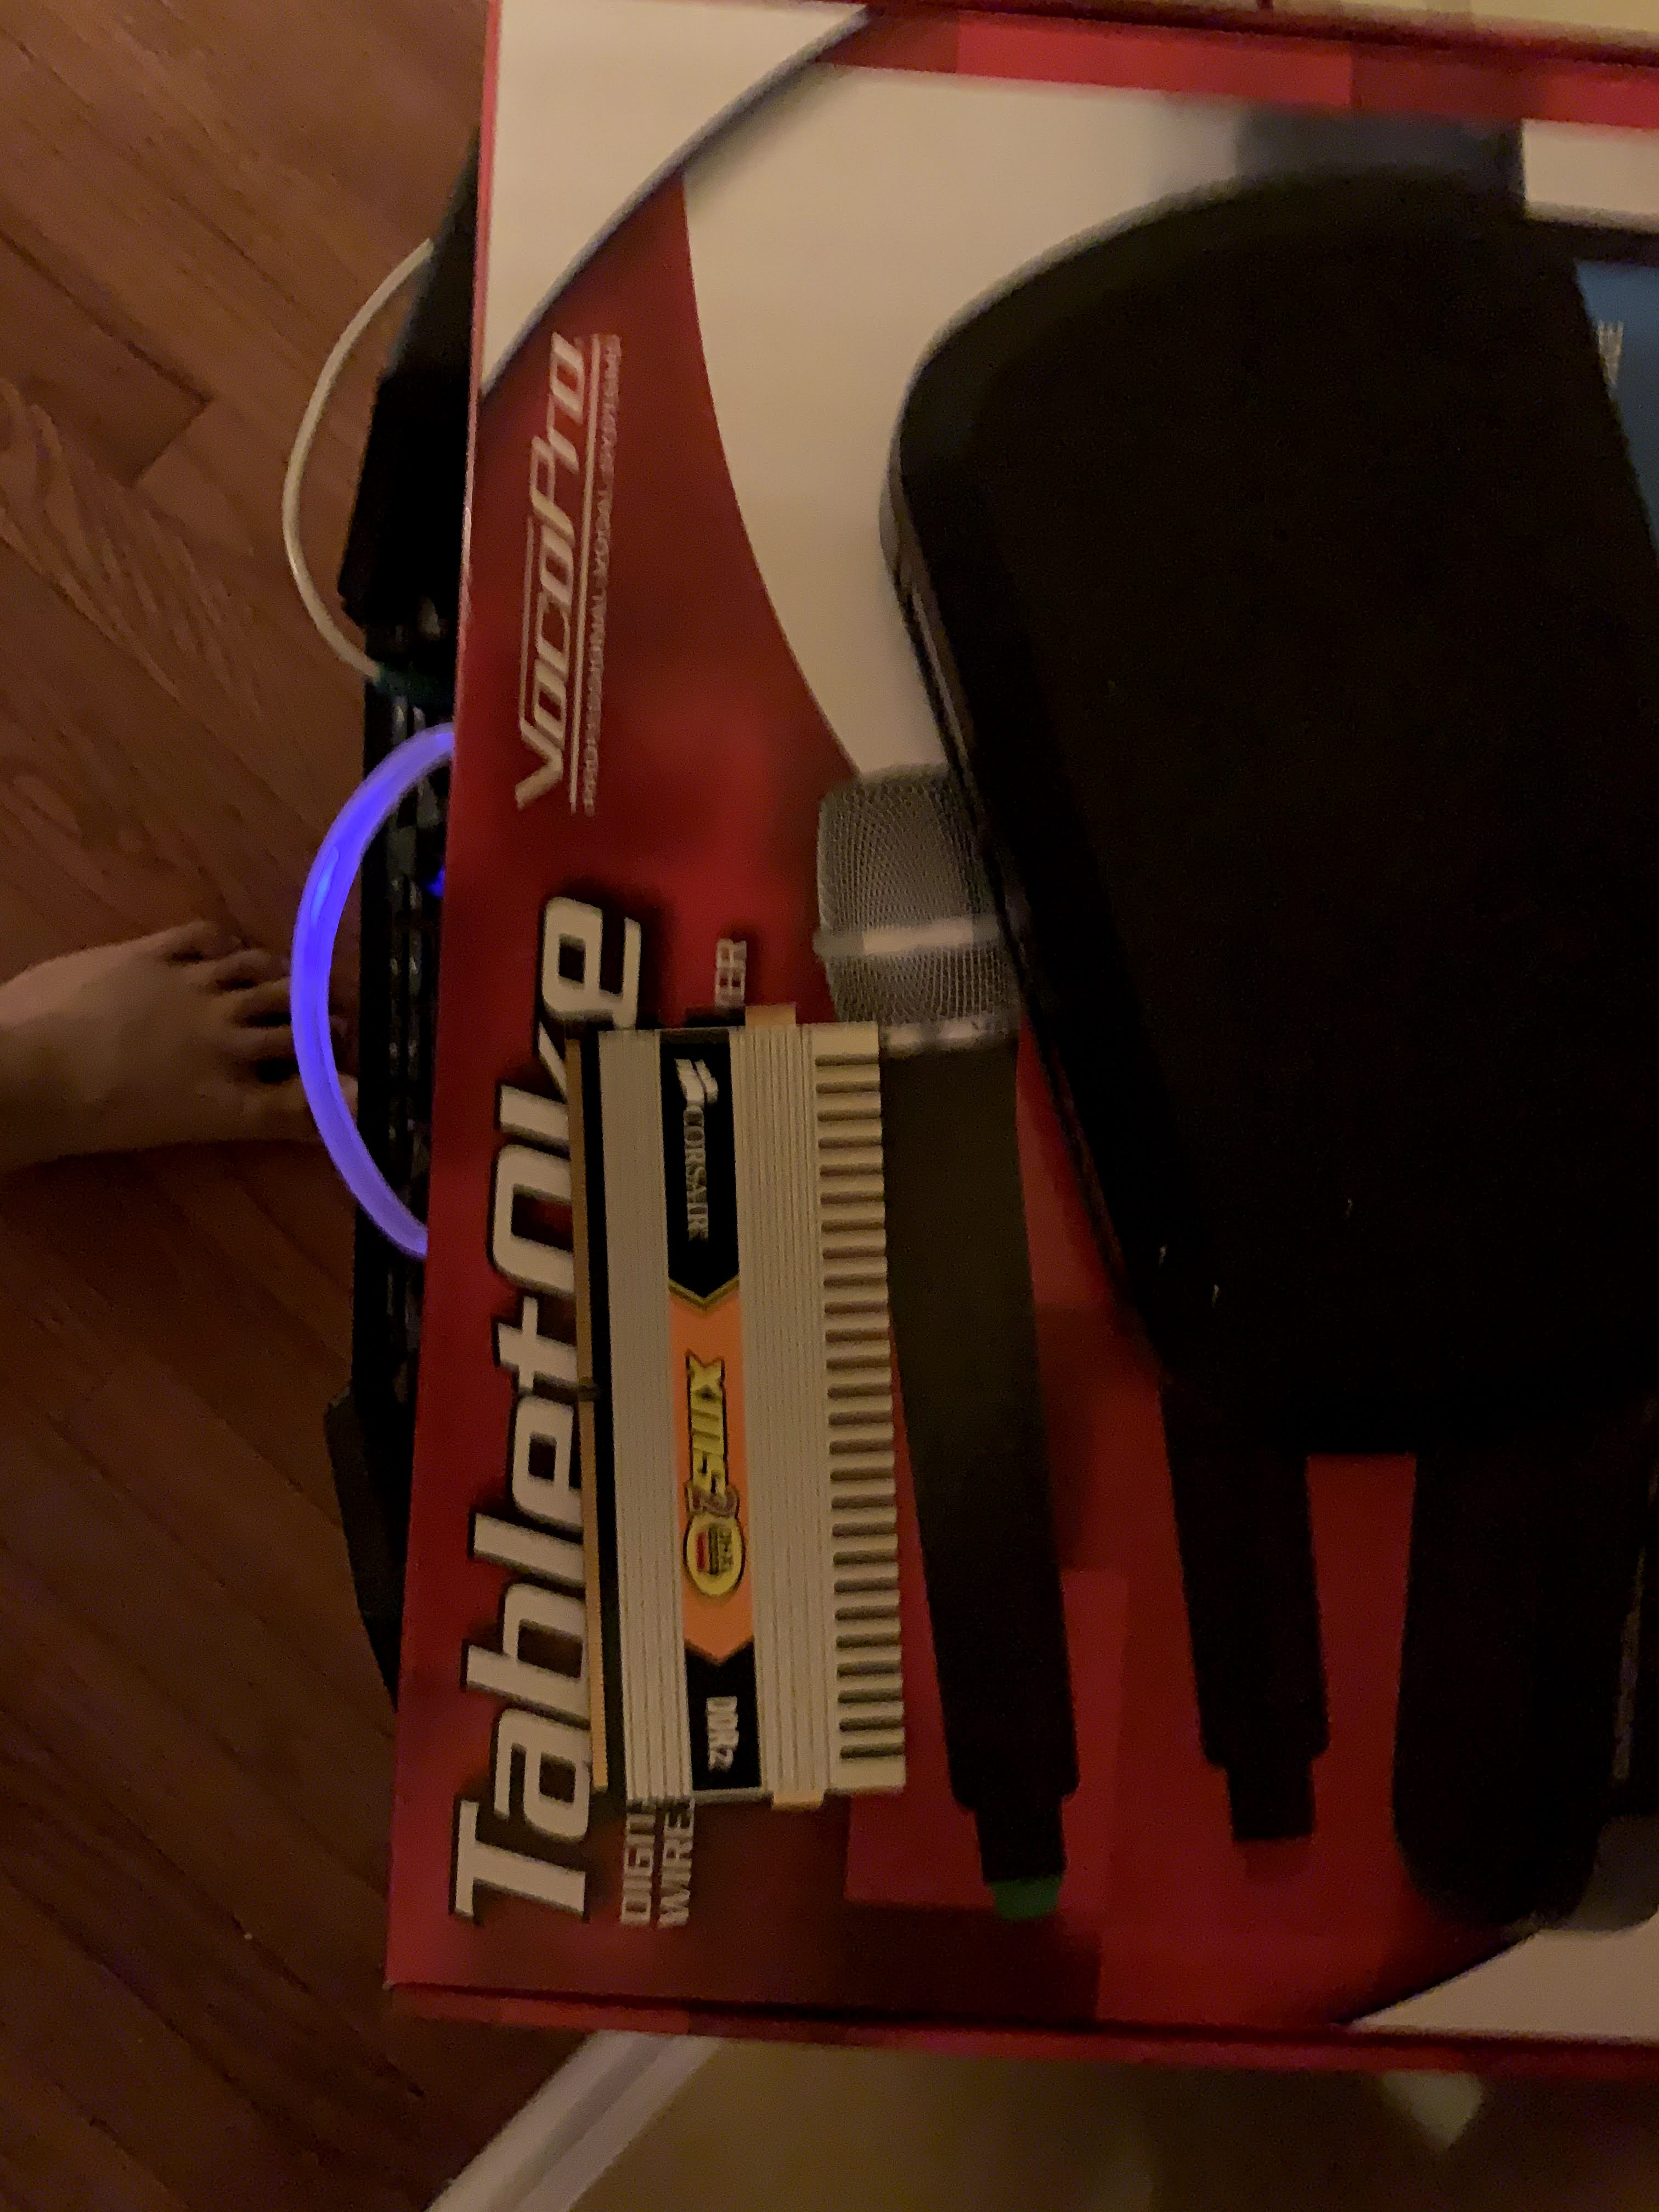Space-debris-medium: (561, 996, 924, 1841)
